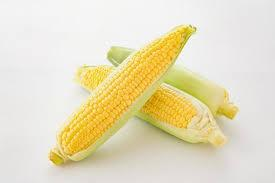non-mango: (48, 22, 197, 165)
